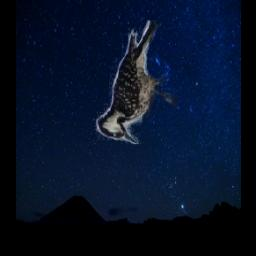Woodpecker: (95, 22, 178, 145)
